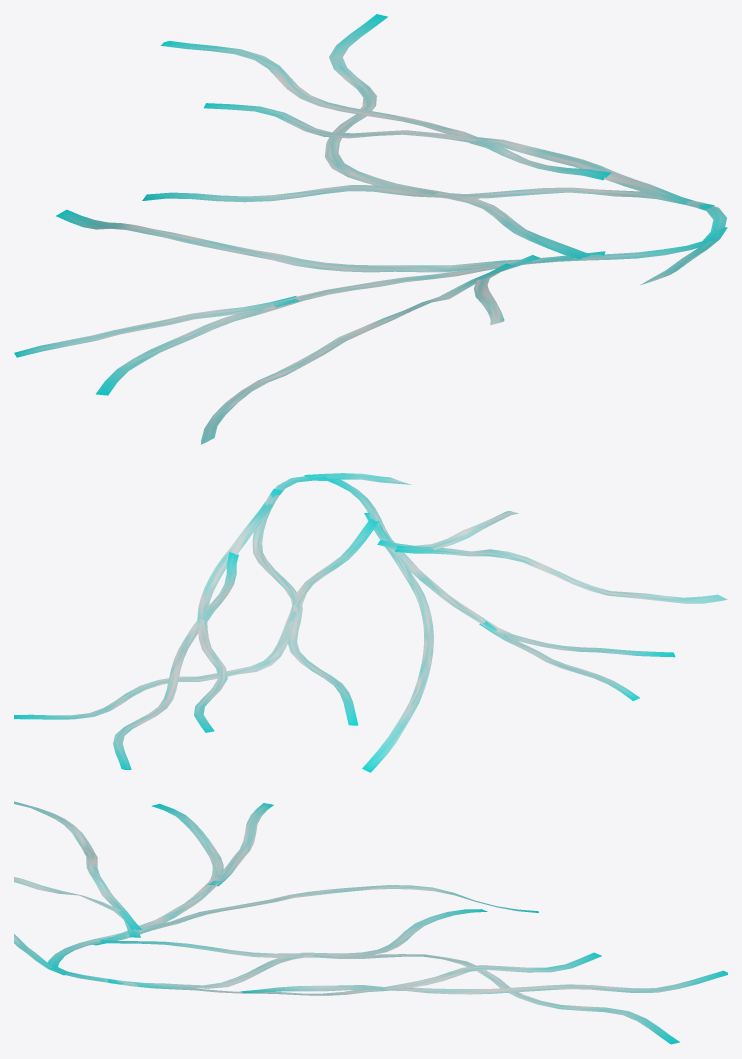
3 renders of one model, top to bottom at view 1: azimuth 30°, elevation 25°; view 2: azimuth 150°, elevation 25°; view 3: azimuth 270°, elevation 25°, orthographic. The views are drawn at different scales.
Parts seen in each view (by area): view 1: SpaceCenter_Long3_GenerateRoad_Sand_TireTracks_Width_Mesh_x1; view 2: SpaceCenter_Long3_GenerateRoad_Sand_TireTracks_Width_Mesh_x1; view 3: SpaceCenter_Long3_GenerateRoad_Sand_TireTracks_Width_Mesh_x1.
Part boxes in pixels (x1=…): SpaceCenter_Long3_GenerateRoad_Sand_TireTracks_Width_Mesh_x1: x1=14, y1=14, x2=727, y2=444; SpaceCenter_Long3_GenerateRoad_Sand_TireTracks_Width_Mesh_x1: x1=14, y1=473, x2=727, y2=772; SpaceCenter_Long3_GenerateRoad_Sand_TireTracks_Width_Mesh_x1: x1=14, y1=801, x2=727, y2=1044.
Size of the model in its own units: 2304 by 1891 by 316.
